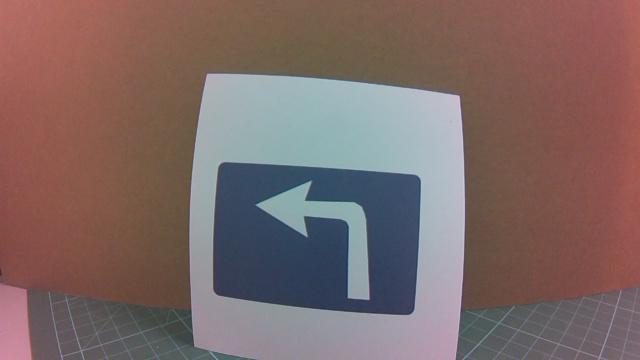left: (235, 158, 427, 329)
